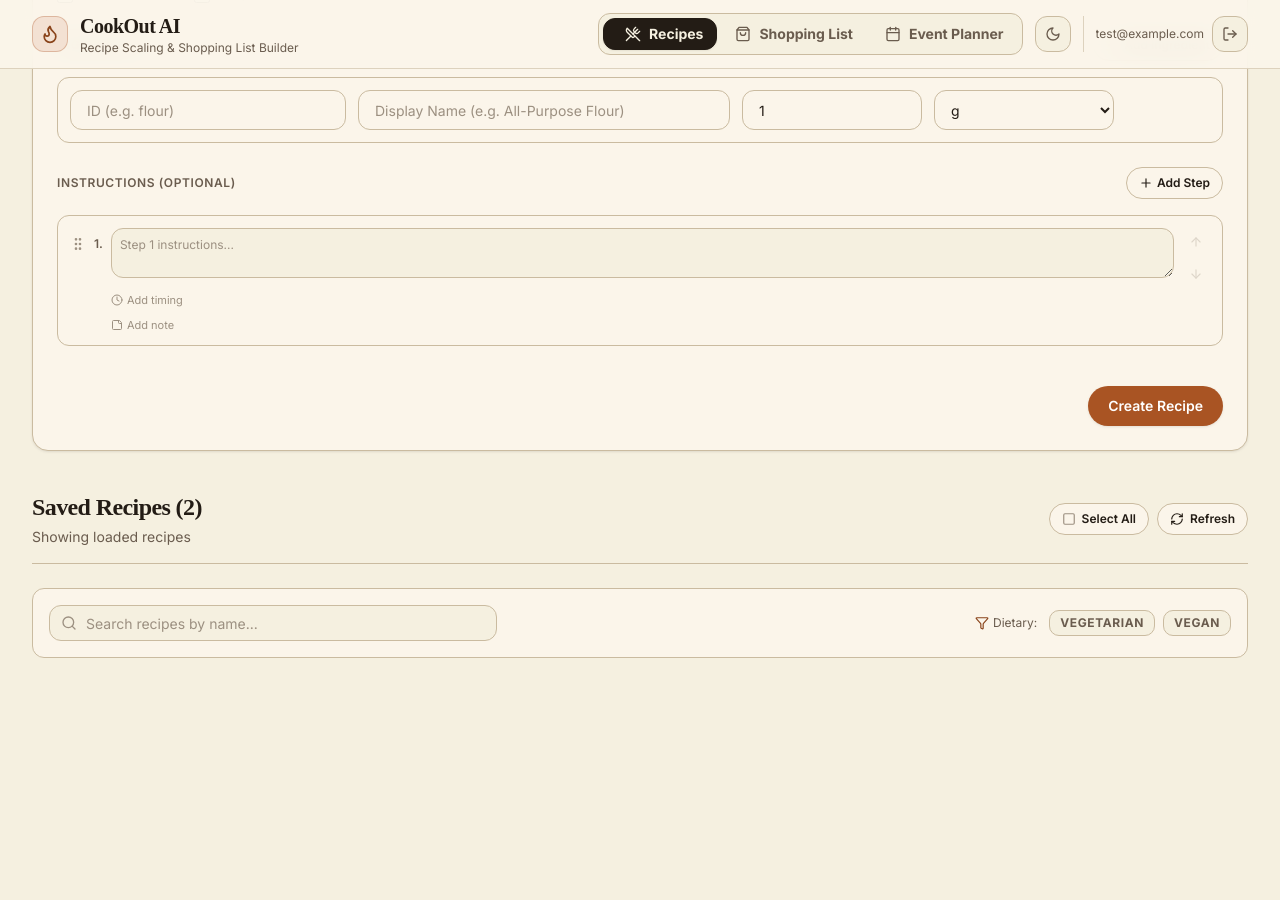
Test: Web UI (TanStack Query & App Integration Tests) › Search & Dietary Filter UI Tests › filters recipe list by search query name in real time
(page scrolled)
Note: Search for "Pancake" — debounced (~300ms) before it fires a request
In the field with placeholder "Search recipes by name...": (273,623) [49,605,497,641], type "Pancake"
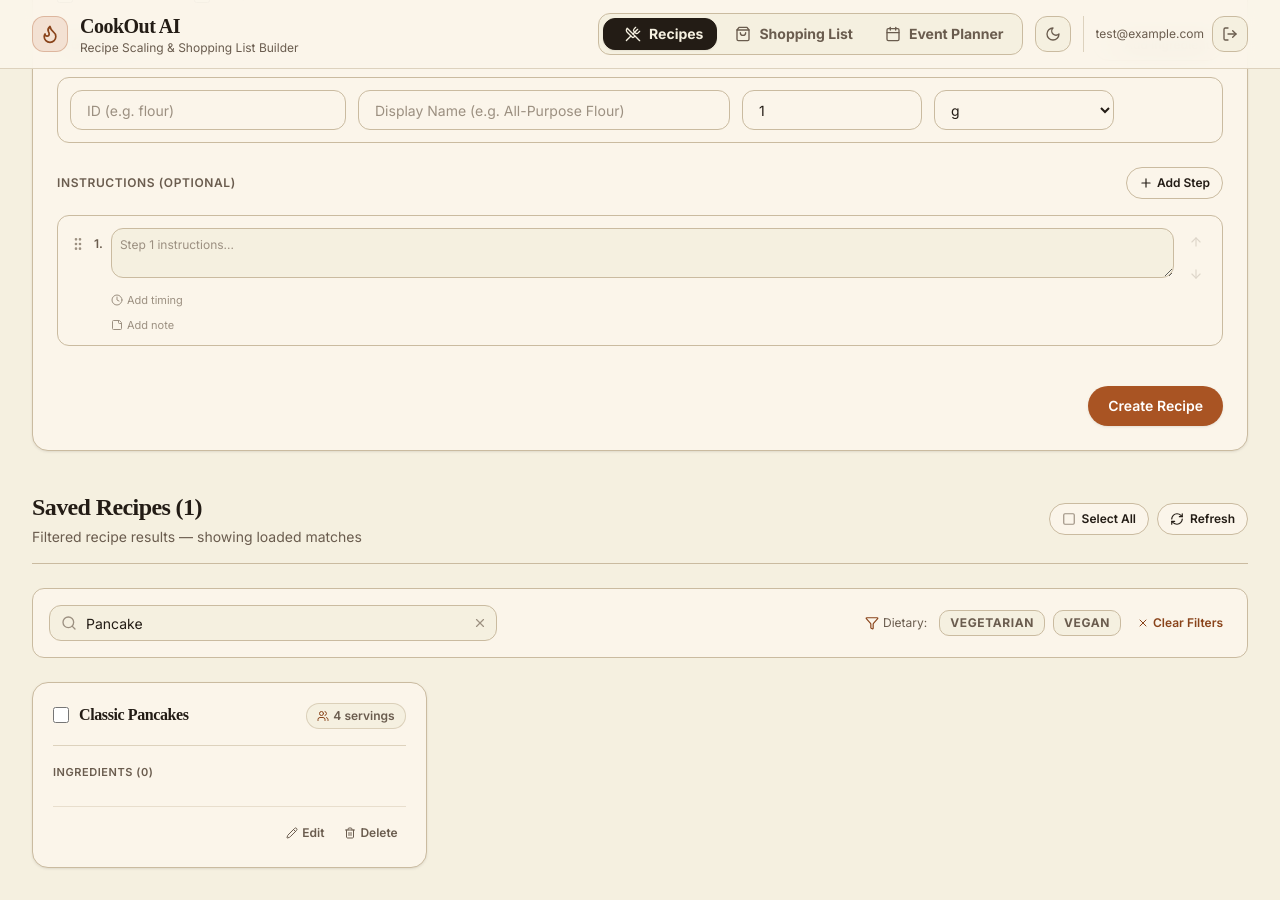
expect the heading "Classic Pancakes" is shown: met, box [79,703,189,727]
